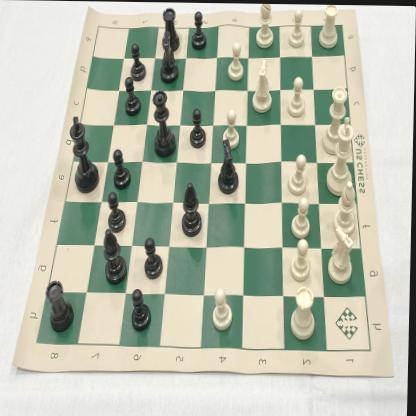black-bishop: (104, 224, 130, 285), (181, 180, 204, 237)
black-king: (68, 112, 102, 194)
black-knight: (216, 139, 244, 195), (159, 29, 182, 83)
black-pawn: (131, 287, 154, 335), (144, 236, 167, 279), (107, 190, 129, 233), (113, 146, 133, 191), (123, 76, 143, 117), (189, 107, 209, 148), (190, 9, 209, 52), (129, 43, 147, 82)
black-queen: (153, 88, 178, 156)
black-rook: (48, 276, 76, 332), (160, 6, 183, 53)
white-bishop: (333, 177, 360, 235), (255, 3, 275, 50)
white-king: (326, 114, 358, 196)
white-knight: (328, 225, 357, 285), (251, 57, 275, 114)
white-pawn: (212, 285, 236, 333), (290, 236, 313, 282), (288, 152, 311, 193), (226, 38, 247, 82), (287, 6, 308, 48), (287, 75, 308, 117), (292, 194, 312, 237), (223, 107, 241, 150)
white-queen: (321, 82, 351, 156)
white-rook: (292, 281, 319, 339), (317, 4, 343, 48)
